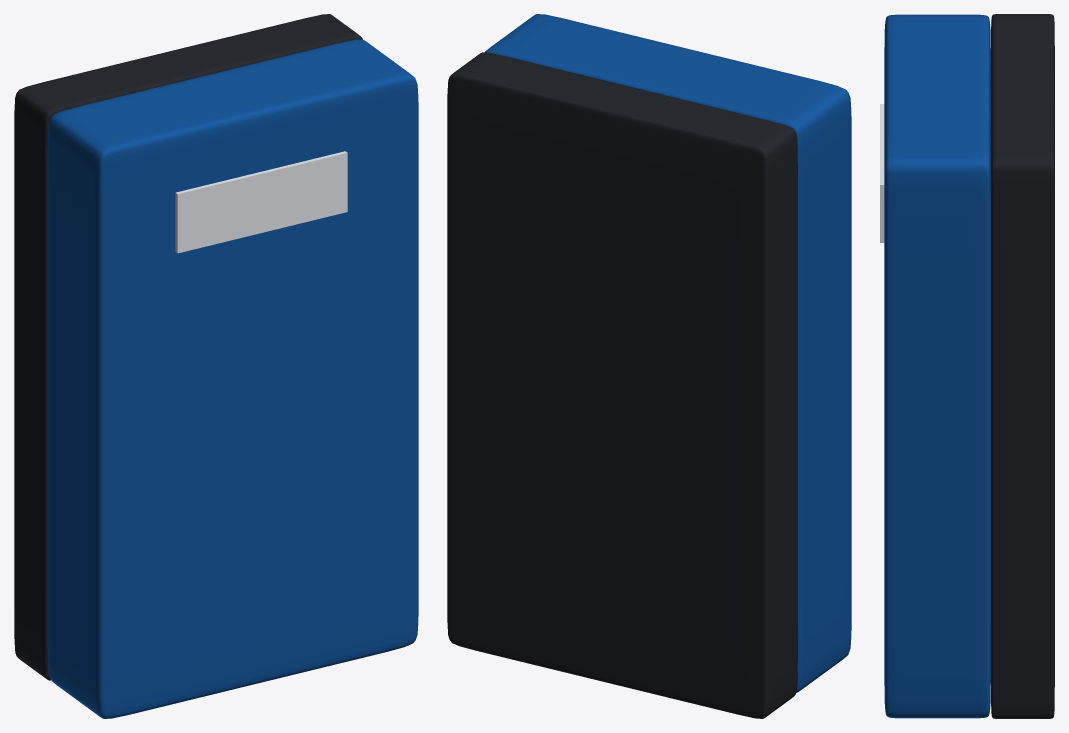
File: victron_lynx_distributor.glb
3 renders of one model, left to right at view 1: azimuth 30°, elevation 25°; view 2: azimuth 150°, elevation 25°; view 3: azimuth 270°, elevation 25°, orthographic. The views are drawn at different scales.
Parts seen in each view (by area): view 1: cover, victron_lynx_distributor; view 2: victron_lynx_distributor, cover; view 3: cover, victron_lynx_distributor.
Part boxes in pixels (box(x1,y1,x2,y2)): cover: box(47, 39, 418, 718); victron_lynx_distributor: box(14, 14, 362, 680); victron_lynx_distributor: box(447, 52, 797, 718); cover: box(484, 14, 851, 692); cover: box(880, 14, 990, 718); victron_lynx_distributor: box(991, 14, 1054, 718).
Bounding box in the file's own units: 0.17 × 0.29 × 0.082.
